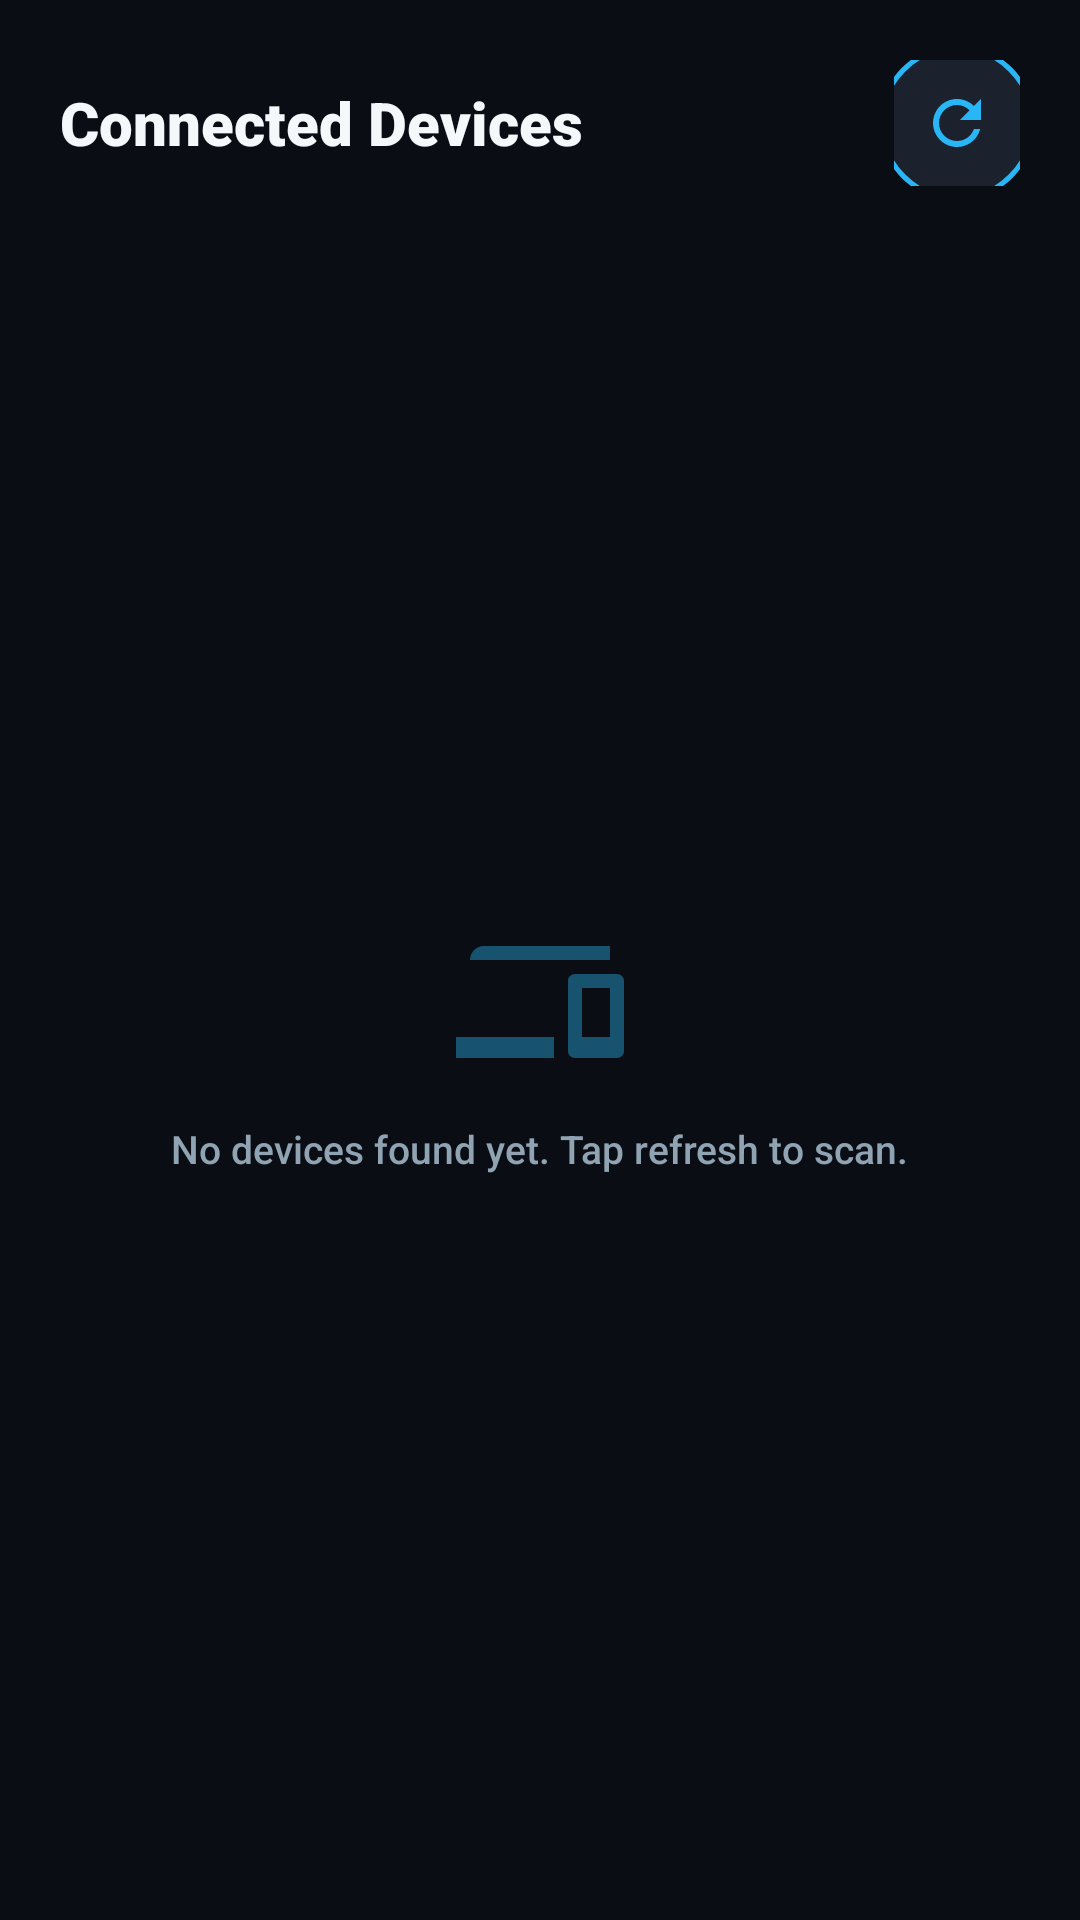

Point at icon controls on the screen. Image size 1080px×1920px, points as (x=x, y=y).
refresh: (x=957, y=123)
